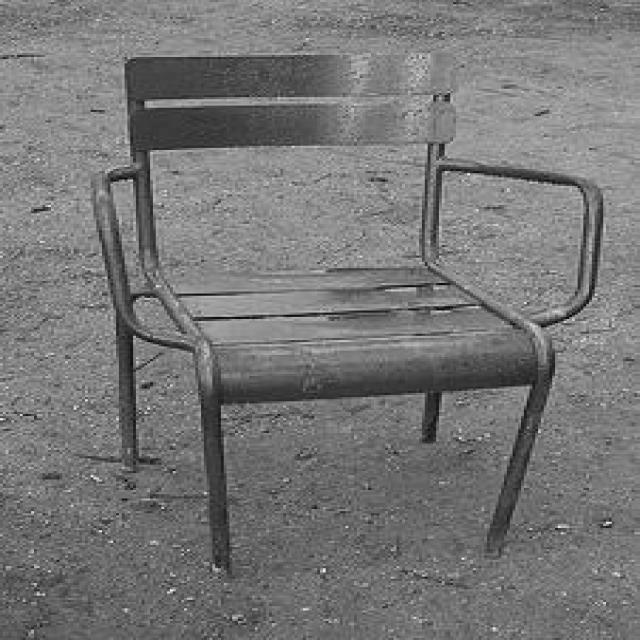chair: (89, 48, 606, 580)
